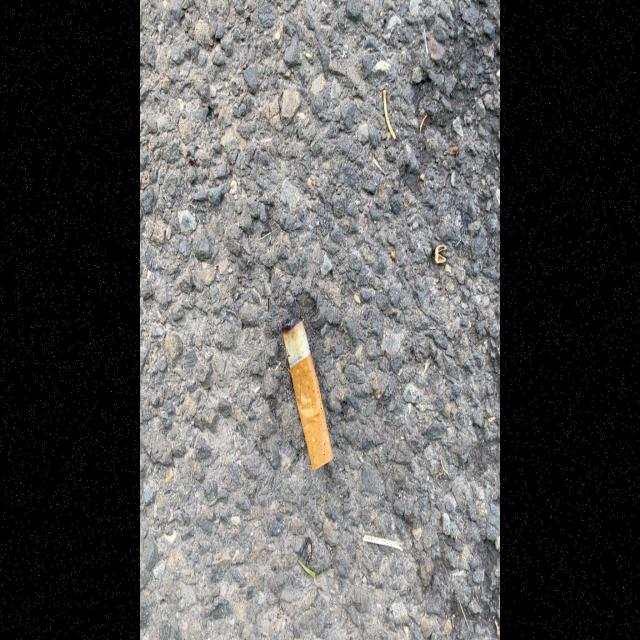other waste: (281, 315, 335, 471)
